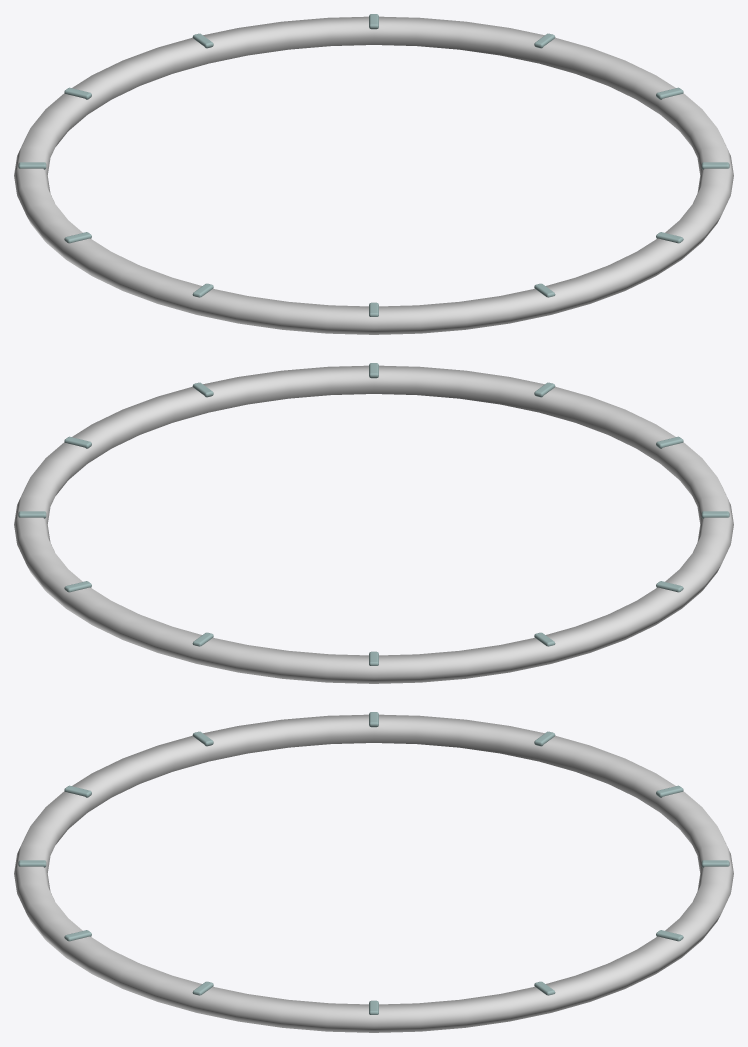
The model's file is rescue_halo_atelier.glb.
The picture shows the model from 3 angles, top to bottom: view 1: azimuth 30°, elevation 25°; view 2: azimuth 150°, elevation 25°; view 3: azimuth 270°, elevation 25°; orthographic projection.
Parts seen in each view (by area): view 1: rescue_halo_atelier__Painted_rescue_halo_atelier_Glaze; view 2: rescue_halo_atelier__Painted_rescue_halo_atelier_Glaze; view 3: rescue_halo_atelier__Painted_rescue_halo_atelier_Glaze.
Boxes of the visible parts, <box> form: rescue_halo_atelier__Painted_rescue_halo_atelier_Glaze: <box>14,14,733,334</box>; rescue_halo_atelier__Painted_rescue_halo_atelier_Glaze: <box>14,363,733,683</box>; rescue_halo_atelier__Painted_rescue_halo_atelier_Glaze: <box>14,712,733,1032</box>.
Size of the model in its own units: 1.6 by 0.052 by 1.6.
